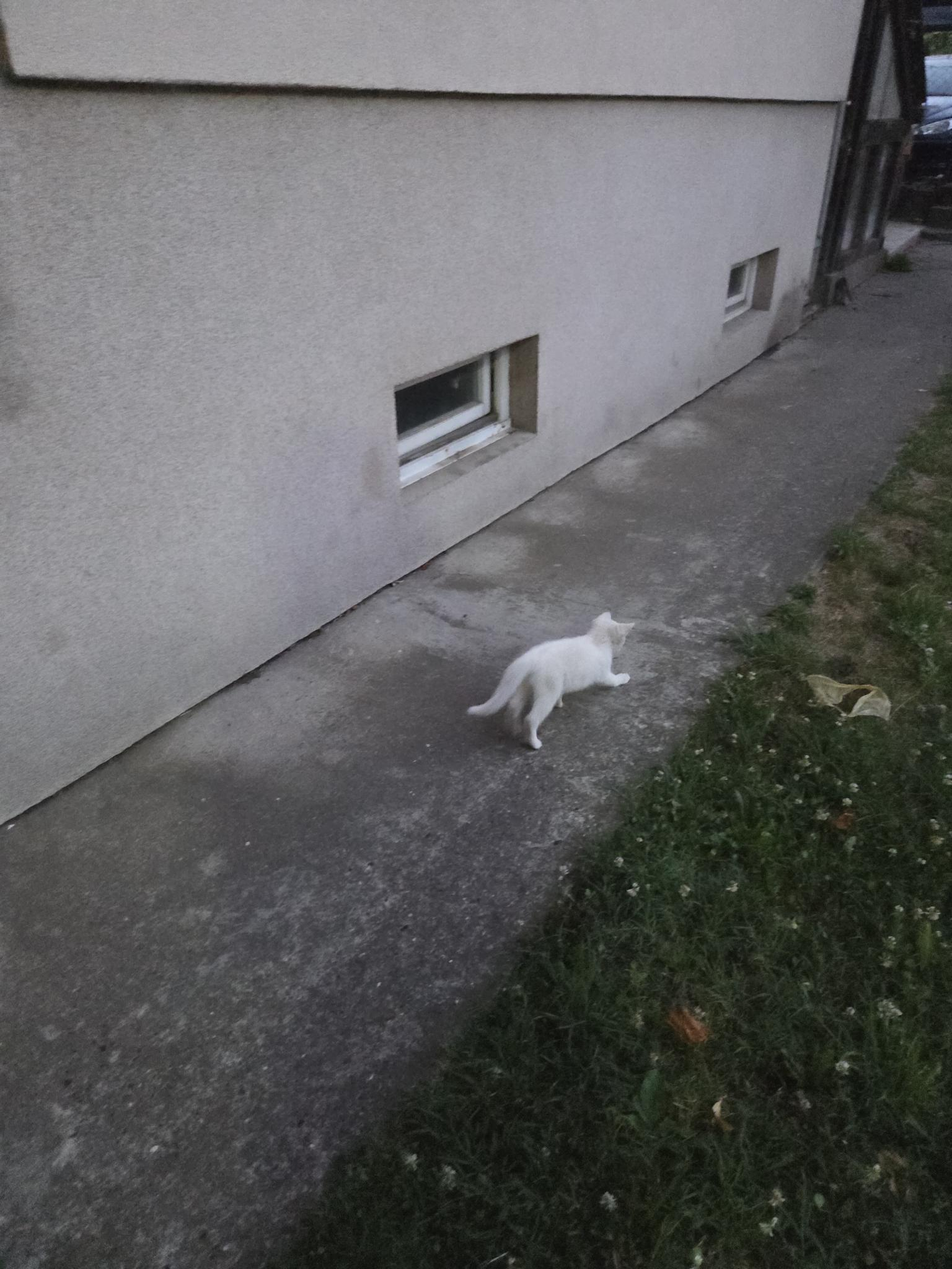macka: (467, 609, 636, 749)
